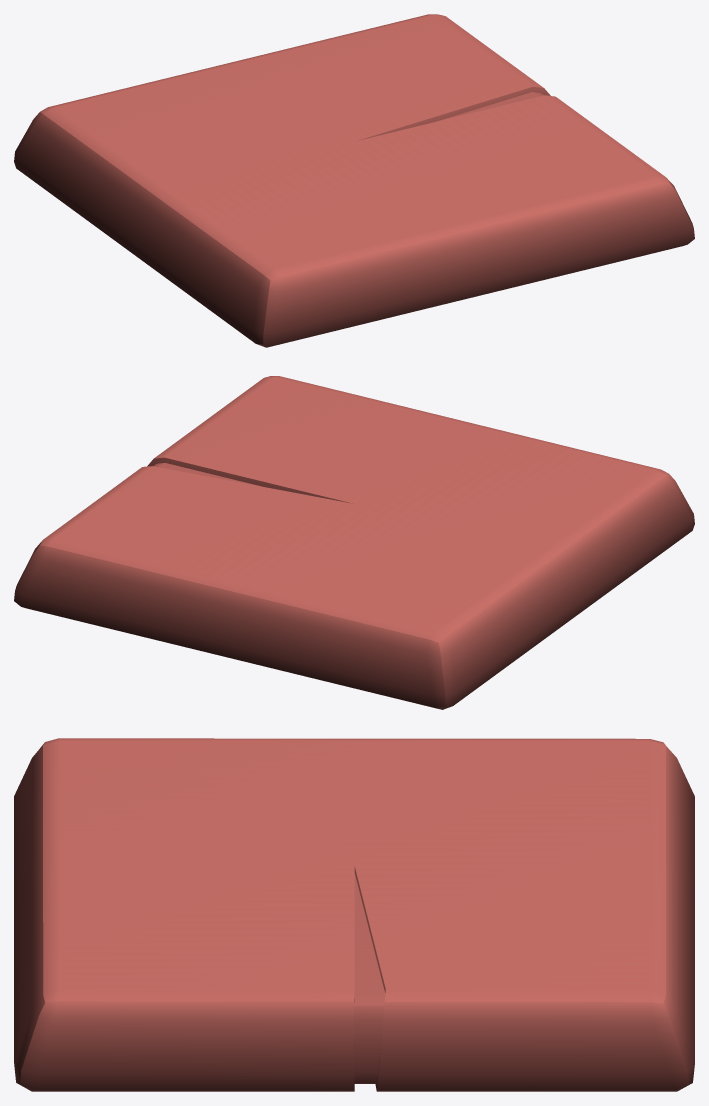
File: SM_Dalle_01.fbx
3 views of the same model, one above another, from view 1: azimuth 30°, elevation 25°; view 2: azimuth 150°, elevation 25°; view 3: azimuth 270°, elevation 25° (orthographic). The views are drawn at different scales.
Parts seen in each view (by area): view 1: Dalle_01; view 2: Dalle_01; view 3: Dalle_01.
Part boxes in pixels (x1,y1,x2,y2): Dalle_01: (14,14,694,347); Dalle_01: (14,376,694,709); Dalle_01: (14,738,694,1091).
Size of the model in its own units: 117 by 17.04 by 117.
